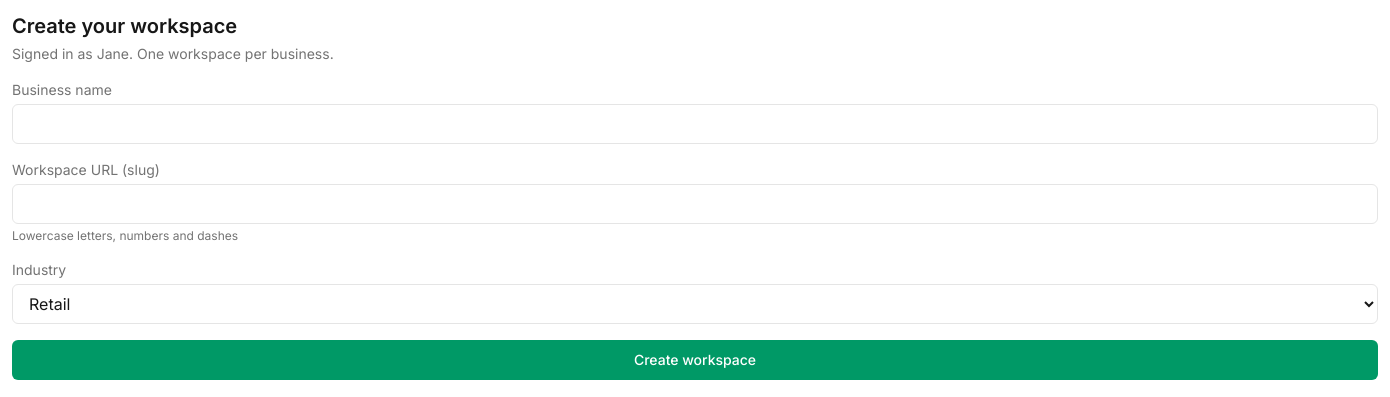
Test: OnboardingForm › auto-suggests a slug from the business name
Type "Acme Coffee" into the field labelled "Business name". click: {"x": 695, "y": 124}
box: [12,104,1378,144]
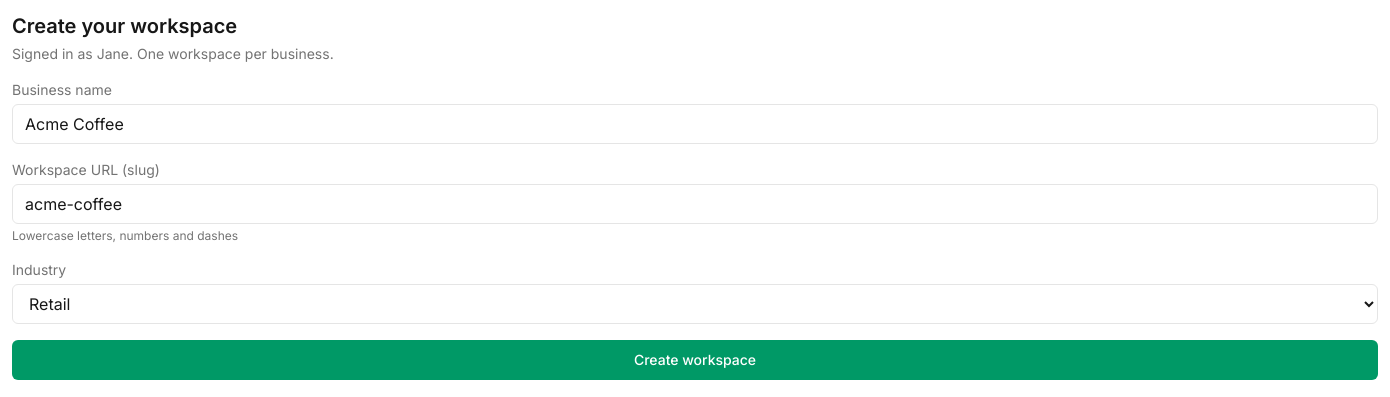
Check: the field labelled "Workspace URL (slug)" holds "acme-coffee", box [12,184,1378,224]
